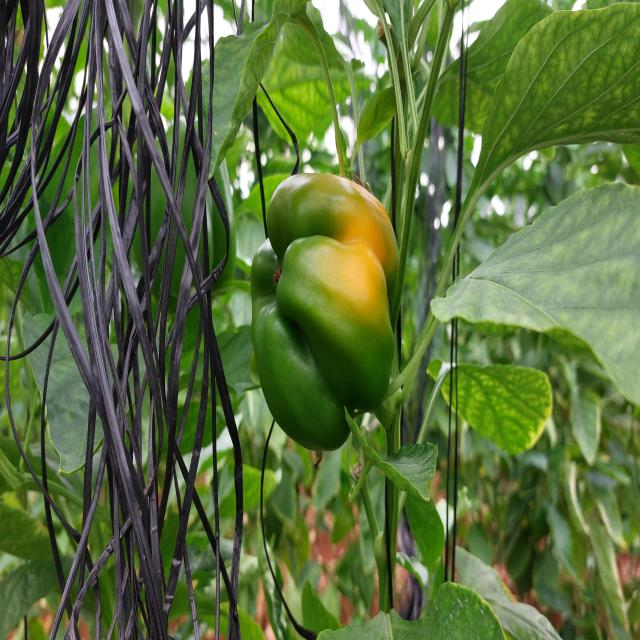GreenishYellow--Can-be-Harvested: (222, 128, 422, 474)
